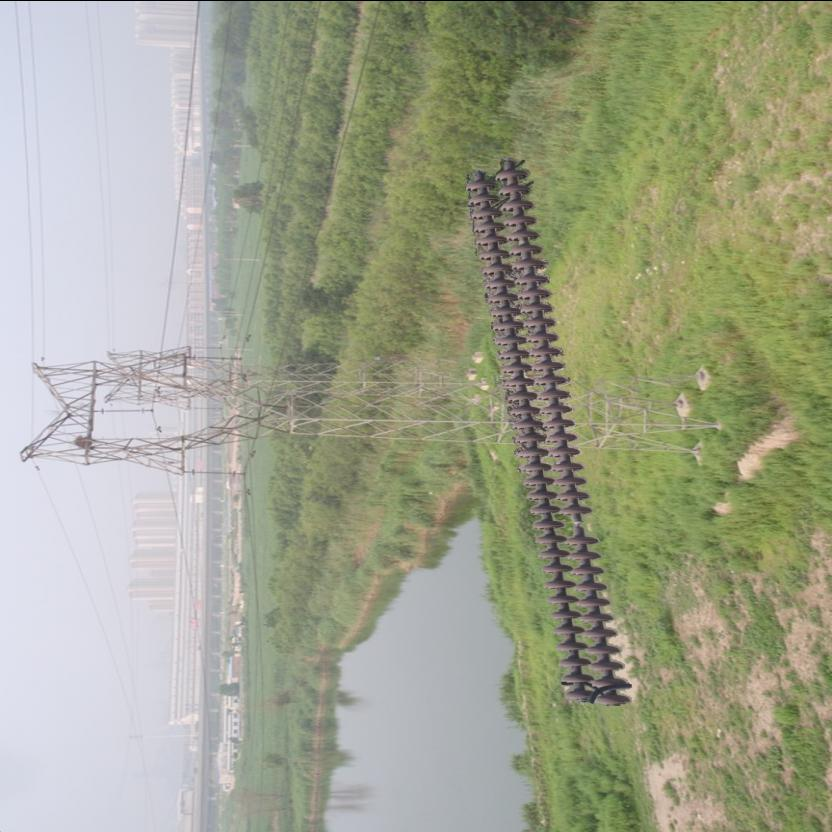defect: (558, 500, 600, 550)
